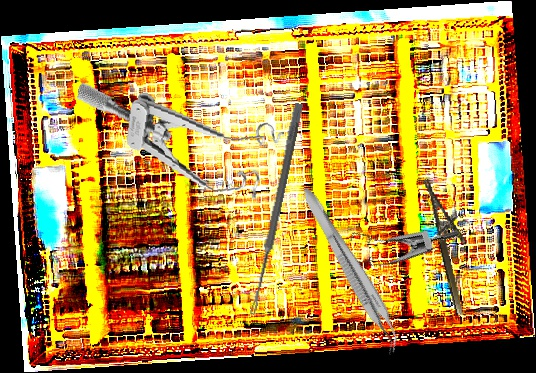Needle Holder: (423, 173, 482, 317)
Speculum: (66, 81, 288, 204), (338, 189, 461, 288)
Surgical Spoon: (248, 102, 304, 316)
Tissue Forceps: (290, 184, 411, 357)
